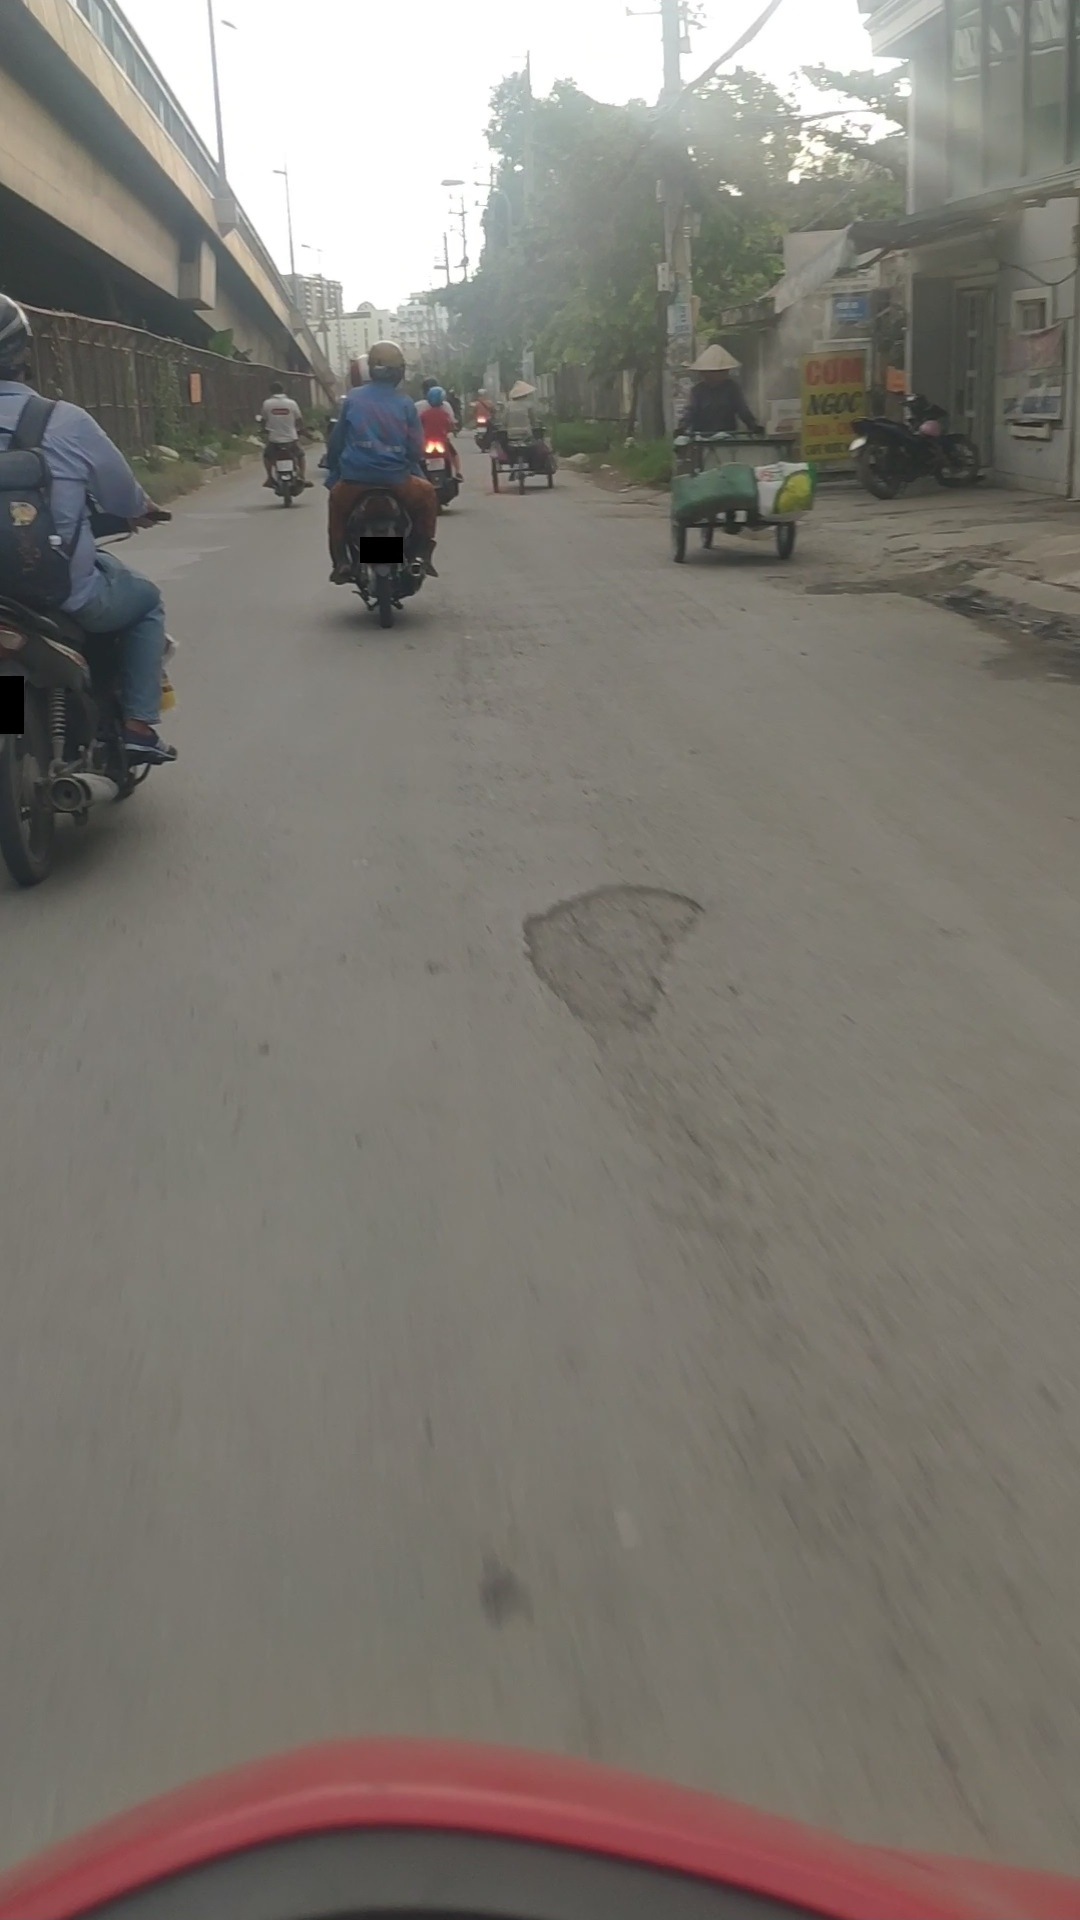hole: (498, 857, 723, 1050), (918, 589, 1004, 622)
